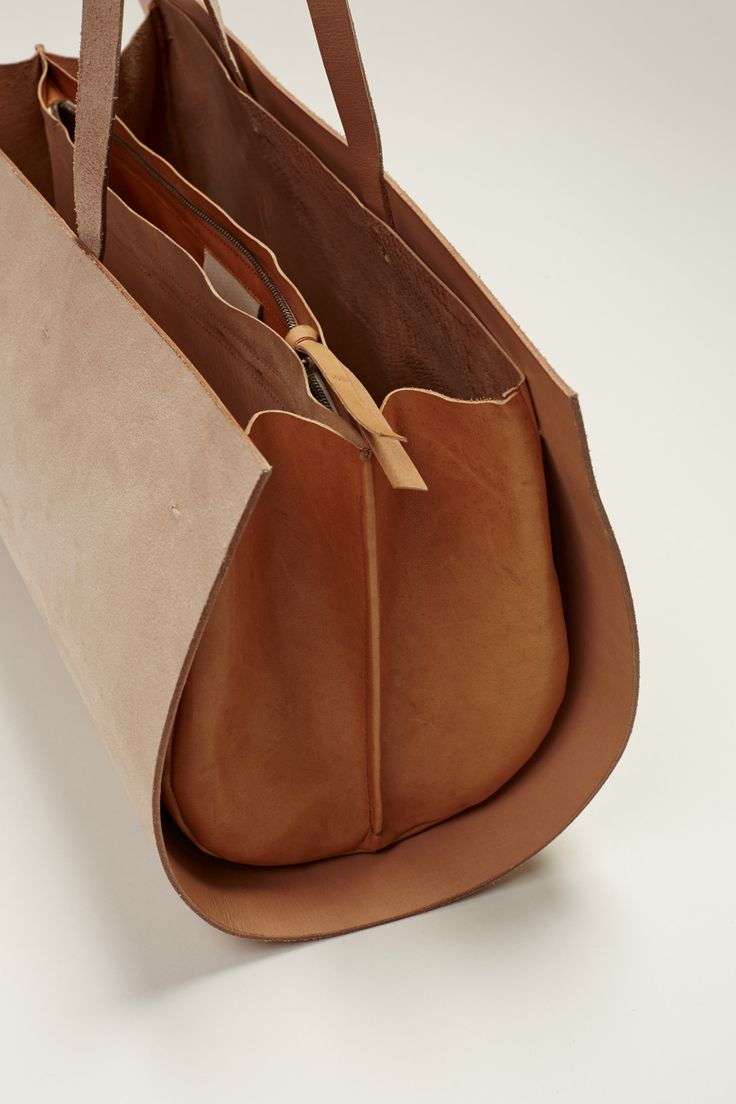cuero: (4, 1, 641, 944)
